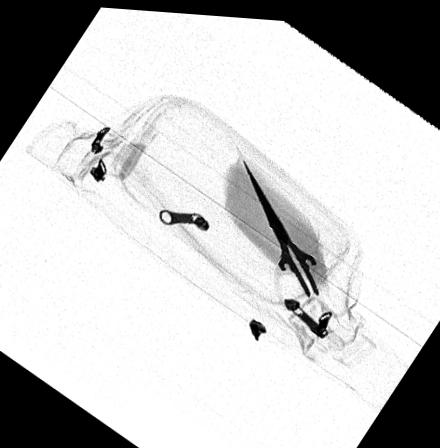Scissors: (239, 154, 352, 317)
